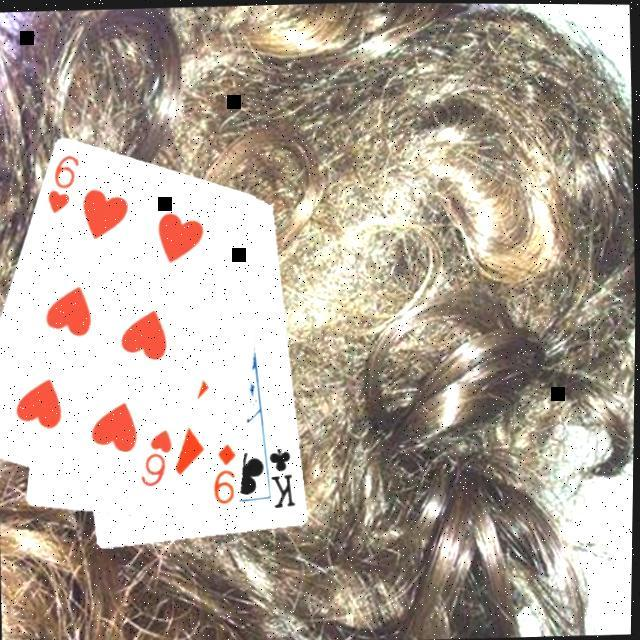6H: (137, 423, 180, 488), (45, 149, 86, 215)
9D: (211, 438, 243, 505)
KC: (262, 436, 303, 509)
